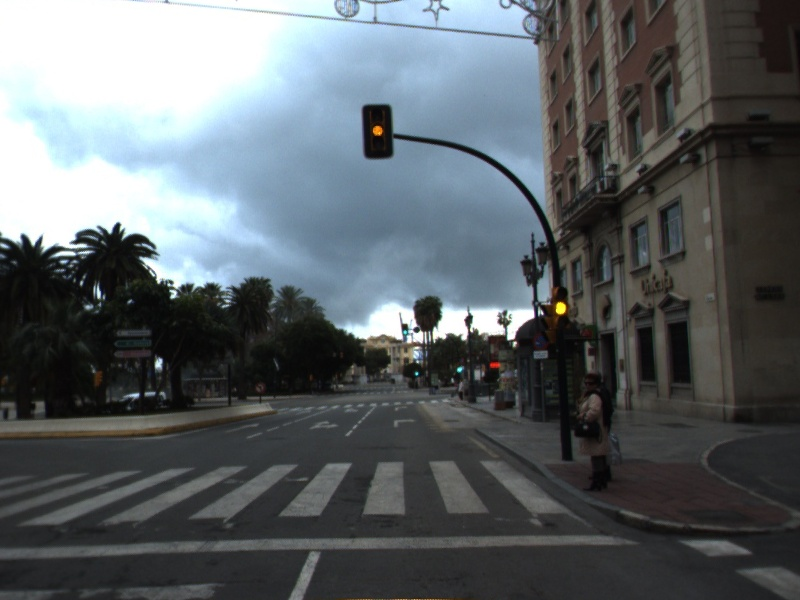RIGHT: (391, 416, 419, 430)
STRAIGHT: (222, 421, 261, 435)
STRAIGHT_RIGHT: (306, 418, 341, 432)
